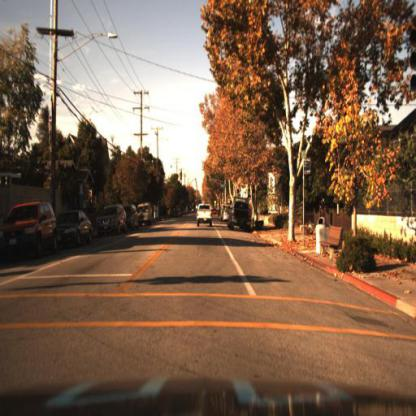car: (2, 202, 58, 268), (53, 207, 97, 257), (54, 209, 94, 248), (95, 201, 131, 243), (97, 198, 126, 236), (228, 199, 258, 233), (194, 194, 215, 232), (135, 201, 156, 226), (140, 201, 157, 229), (124, 204, 139, 235), (127, 203, 141, 235), (225, 204, 234, 229)
